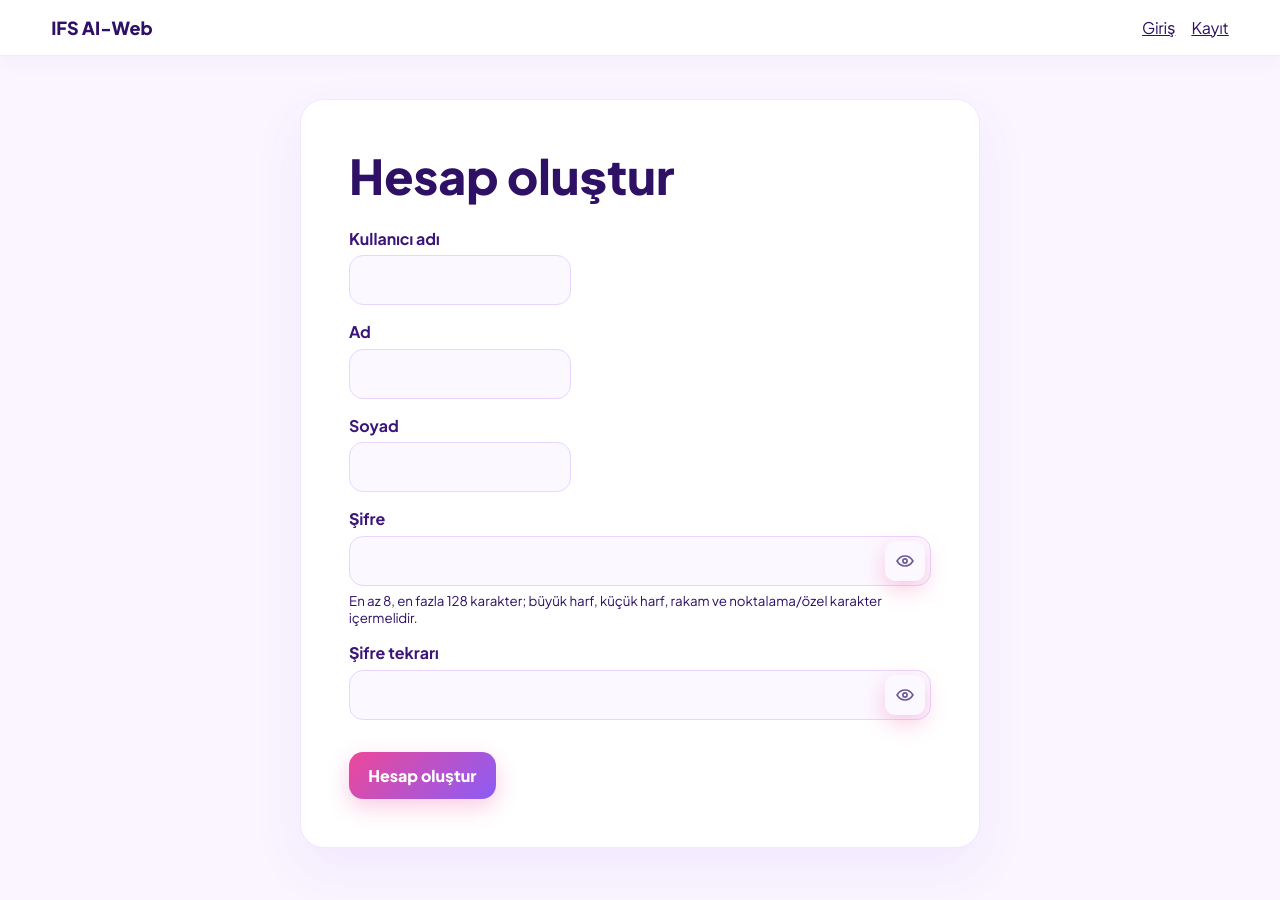
it: authentication form hardening › shows the complete password policy and each local rule
expect the text "En az 8, en fazla 128 karakter" is shown: met, box [349,592,882,626]
Type "member" into the field labelled "Kullanıcı adı" at [460, 280], box [349,255,571,305]
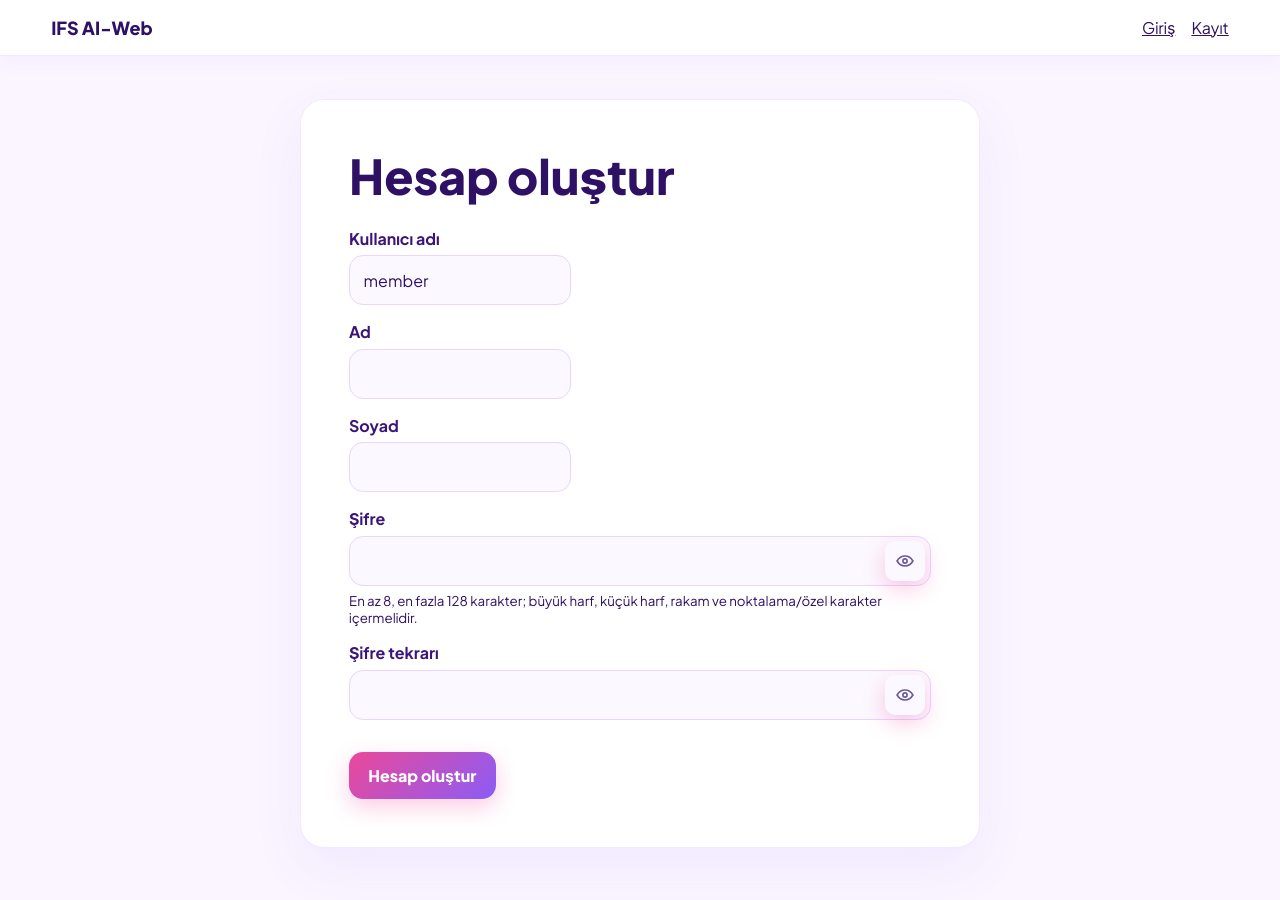
Type "Özge" into the field labelled "Ad" at [460, 374], box [349,349,571,399]
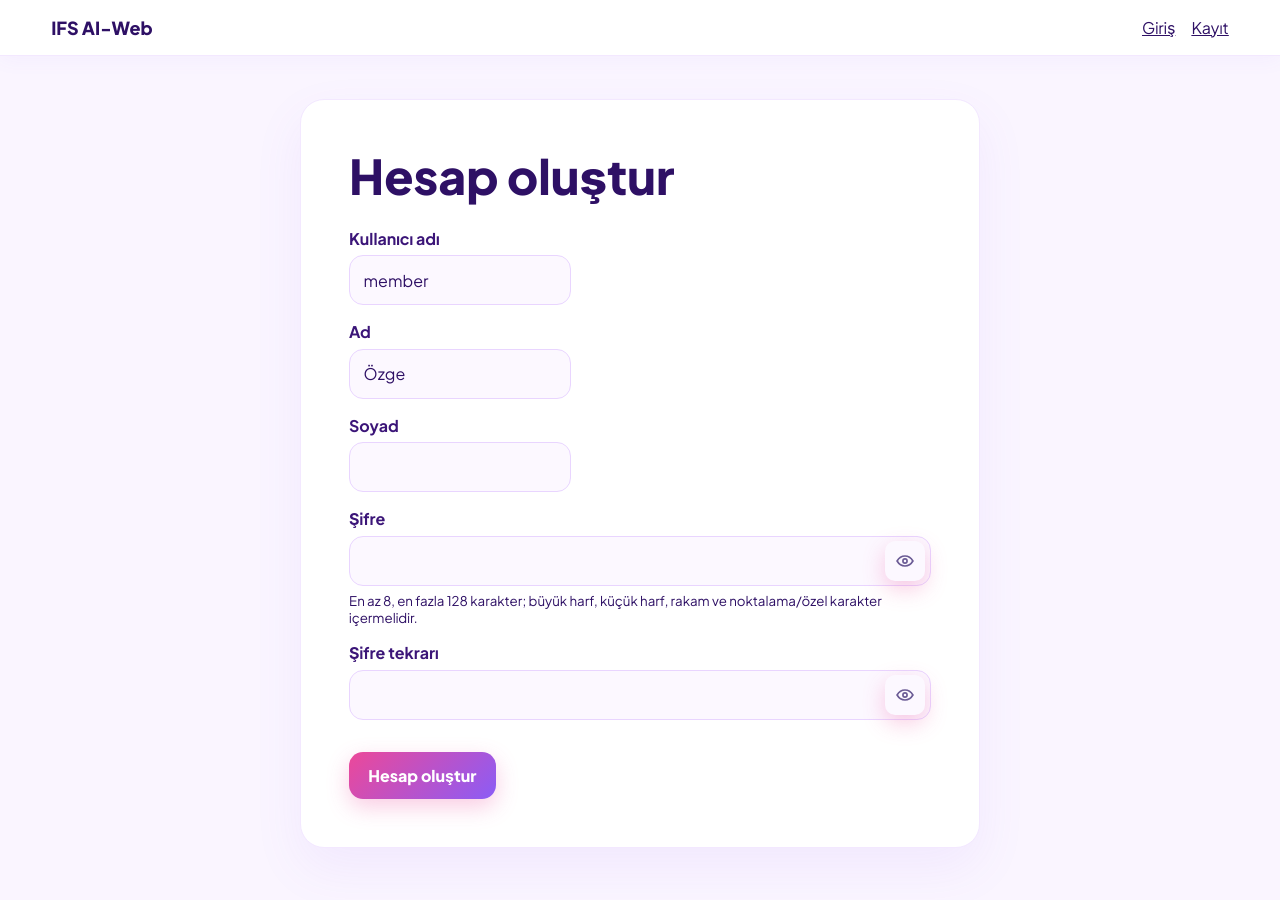
Type "Kacmaz" into the field labelled "Soyad" at [460, 467], box [349,442,571,492]
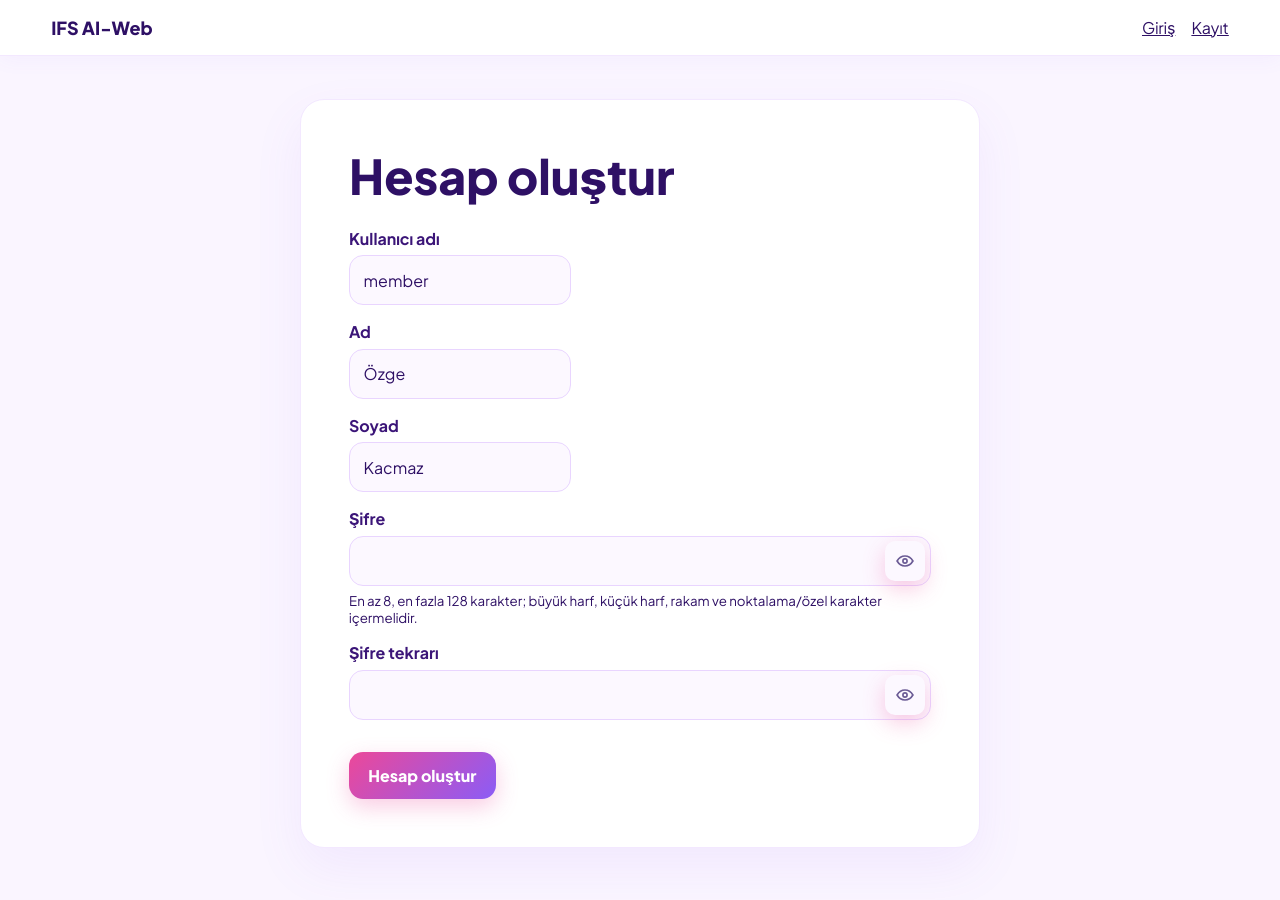
Type "short" into the password field labelled "Şifre" at [640, 561], box [349,536,931,586]
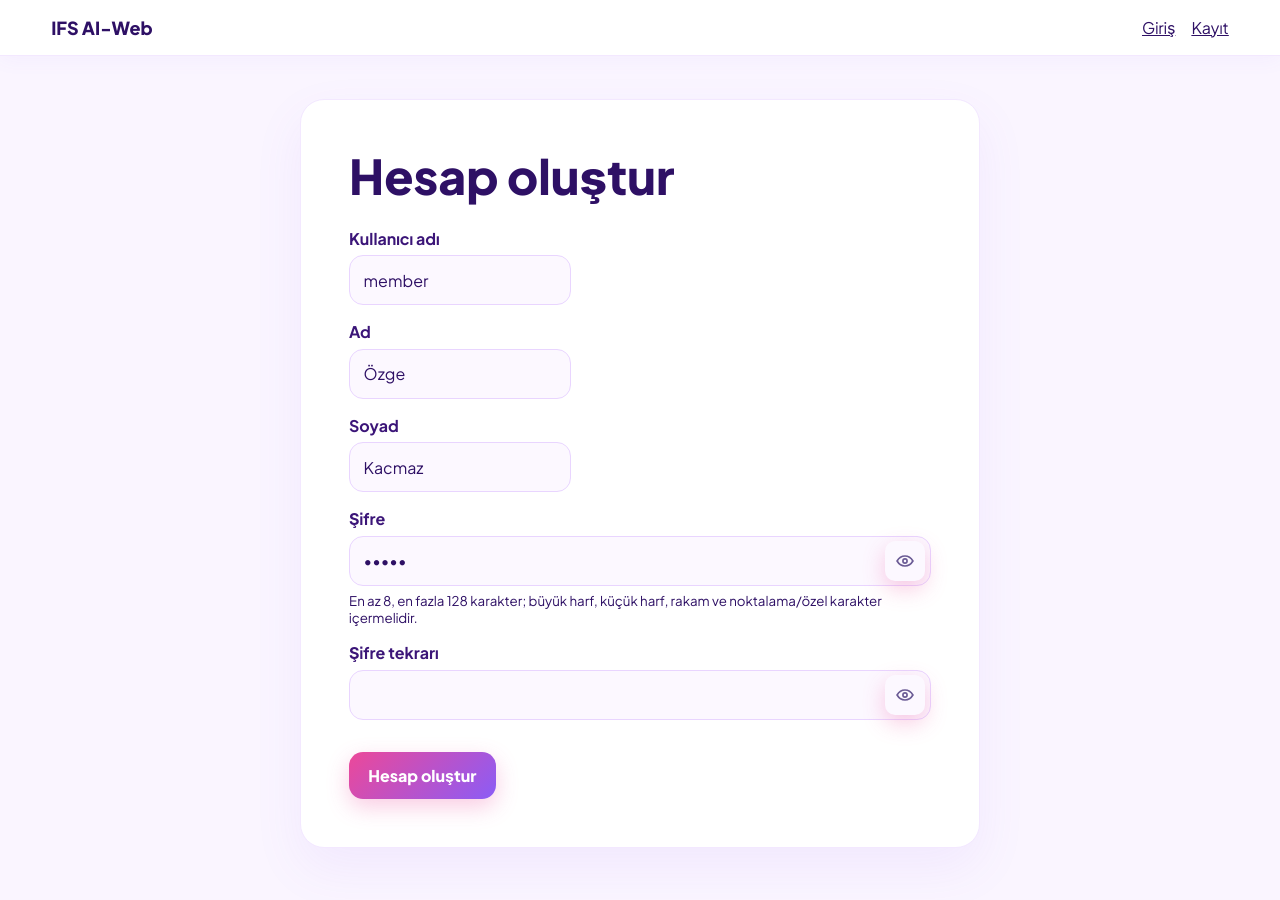
Type "short" into the password field labelled "Şifre tekrarı" at [640, 695], box [349,670,931,720]
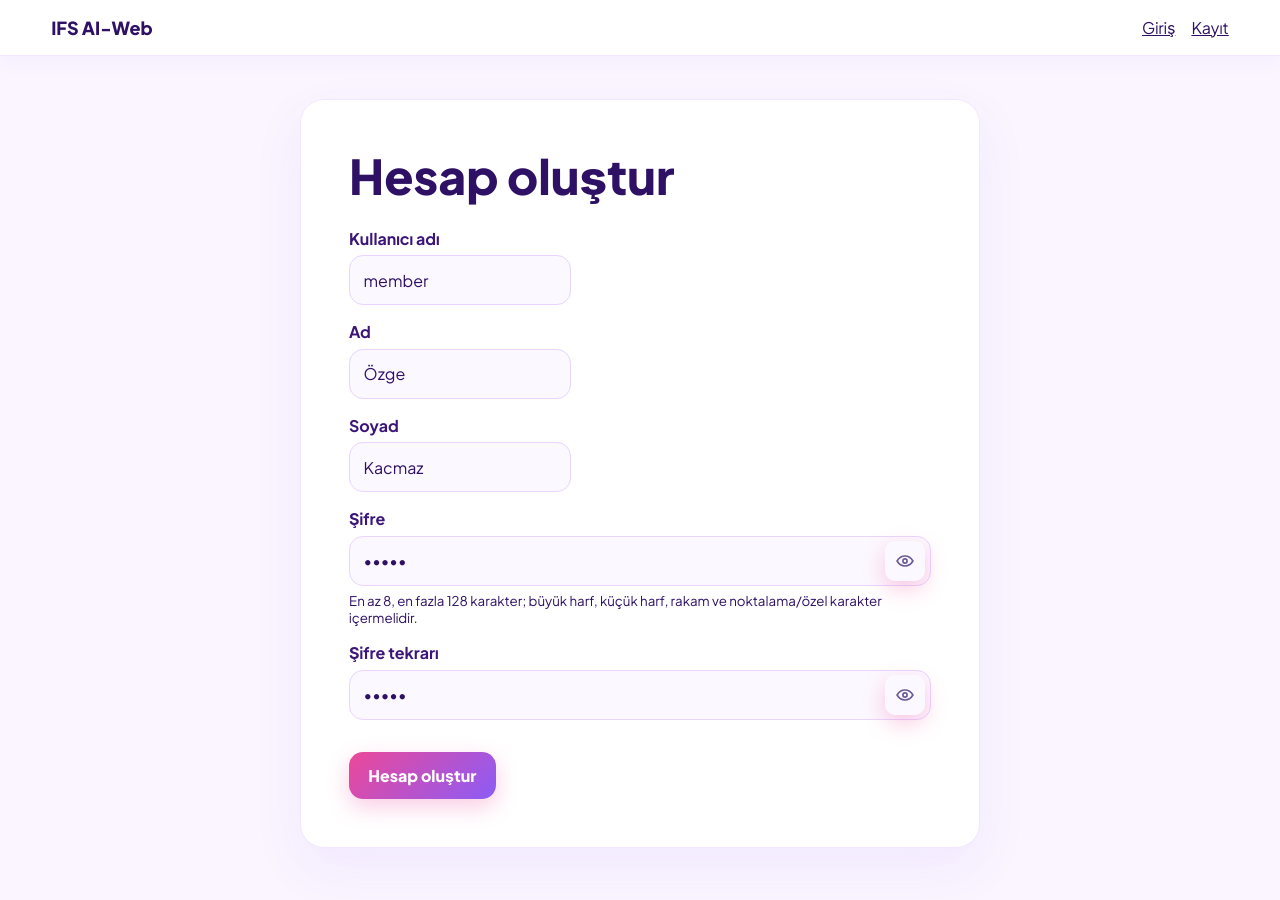
Click the button "Hesap oluştur" at [422, 775], box [349,752,496,798]
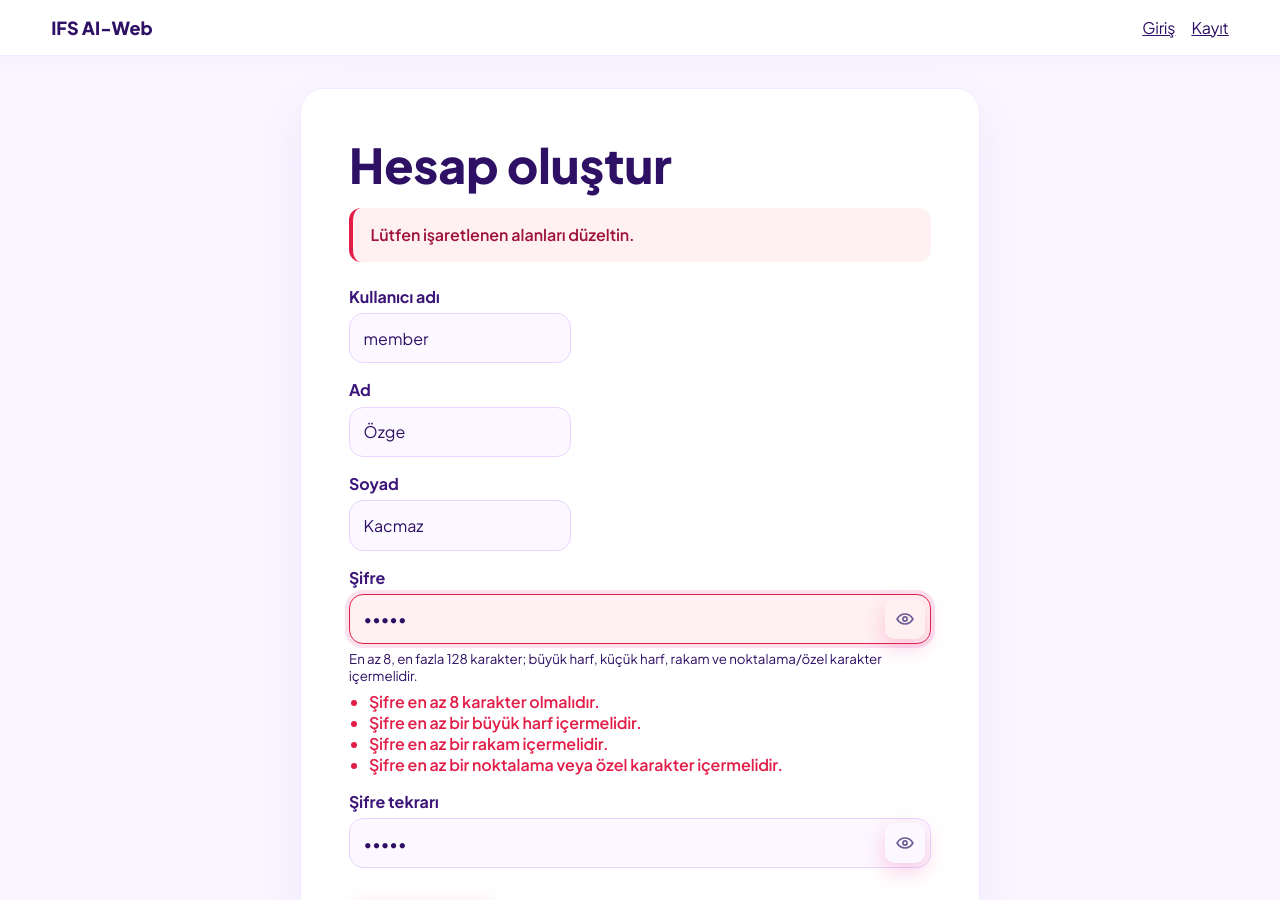
expect the list item "Şifre en az 8 karakter olmalıdır." is shown: met, box [369,691,600,712]
expect the list item "Şifre en az bir büyük harf içermelidir." is shown: met, box [369,712,642,733]
expect the list item "Şifre en az bir rakam içermelidir." is shown: met, box [369,733,608,754]
